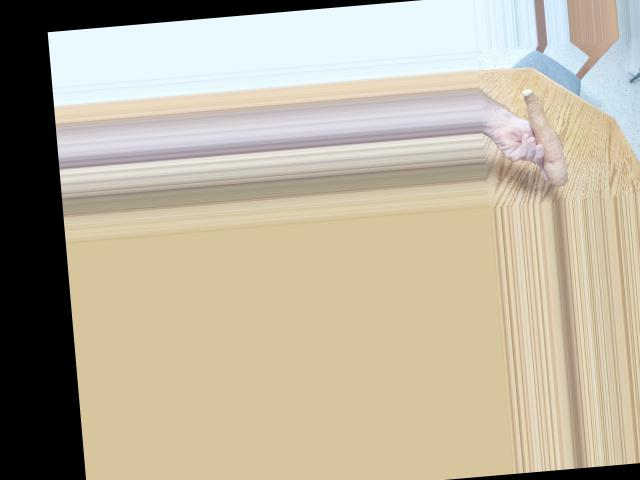sweet_potato: (518, 85, 570, 189)
